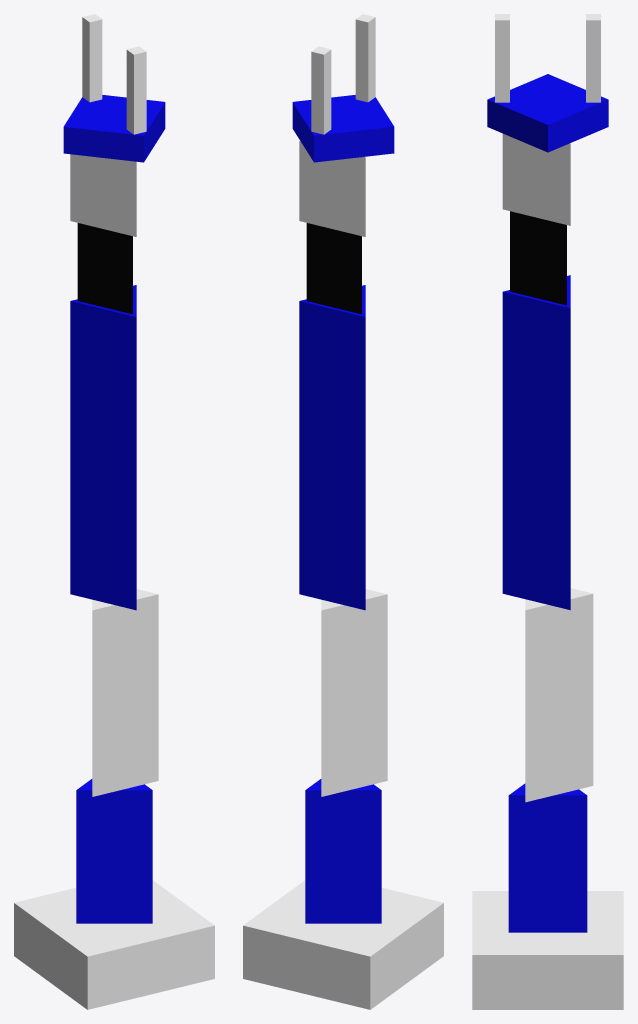
The model's file is arm.cope.dae.
The picture shows the model from 3 angles, left to right: view 1: azimuth 30°, elevation 25°; view 2: azimuth 150°, elevation 25°; view 3: azimuth 270°, elevation 25°; orthographic projection. The views are drawn at different scales.
Visible parts, largest first — view 1: link3, base_link, link2, link1, link6, link5, link4, gripper_finger_link2, gripper_finger_link1; view 2: link3, base_link, link2, link1, link6, link5, link4, gripper_finger_link1, gripper_finger_link2; view 3: link3, base_link, link2, link1, link6, link5, link4, gripper_finger_link1, gripper_finger_link2.
Boxes of the visible parts, left/top/right/bottom form: link3: left=70, top=285, right=136, bottom=610; base_link: left=14, top=880, right=214, bottom=1009; link2: left=92, top=589, right=158, bottom=796; link1: left=76, top=779, right=152, bottom=923; link6: left=63, top=95, right=165, bottom=162; link5: left=70, top=154, right=136, bottom=236; link4: left=77, top=223, right=132, bottom=314; gripper_finger_link2: left=126, top=46, right=146, bottom=134; gripper_finger_link1: left=82, top=14, right=102, bottom=102; link3: left=299, top=285, right=365, bottom=610; base_link: left=243, top=880, right=443, bottom=1009; link2: left=321, top=589, right=387, bottom=796; link1: left=305, top=779, right=381, bottom=923; link6: left=292, top=95, right=394, bottom=162; link5: left=299, top=141, right=365, bottom=236; link4: left=306, top=223, right=361, bottom=314; gripper_finger_link1: left=311, top=46, right=331, bottom=134; gripper_finger_link2: left=355, top=14, right=375, bottom=102; link3: left=502, top=275, right=570, bottom=610; base_link: left=472, top=891, right=623, bottom=1009; link2: left=525, top=588, right=593, bottom=802; link1: left=508, top=783, right=587, bottom=932; link6: left=487, top=74, right=608, bottom=152; link5: left=502, top=133, right=570, bottom=225; link4: left=510, top=211, right=566, bottom=305; gripper_finger_link1: left=586, top=14, right=600, bottom=102; gripper_finger_link2: left=495, top=14, right=509, bottom=102.
Size of what is drawn, in the model's own units: 0.1 by 0.1 by 0.7.
